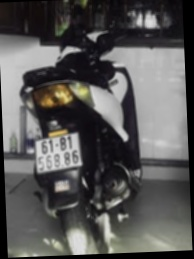Bien-so: (28, 141, 83, 185)
